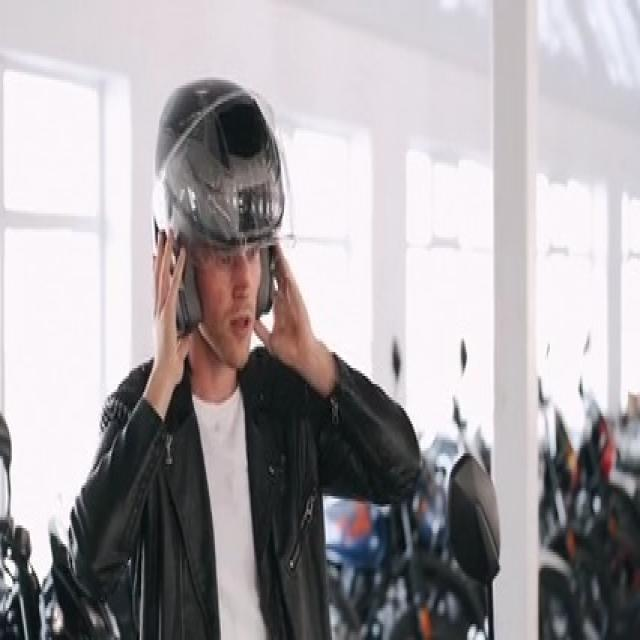Helmet_Wearer: (142, 73, 294, 374)
Jacket_Wearer: (68, 316, 416, 640)
Person: (65, 78, 416, 639)
